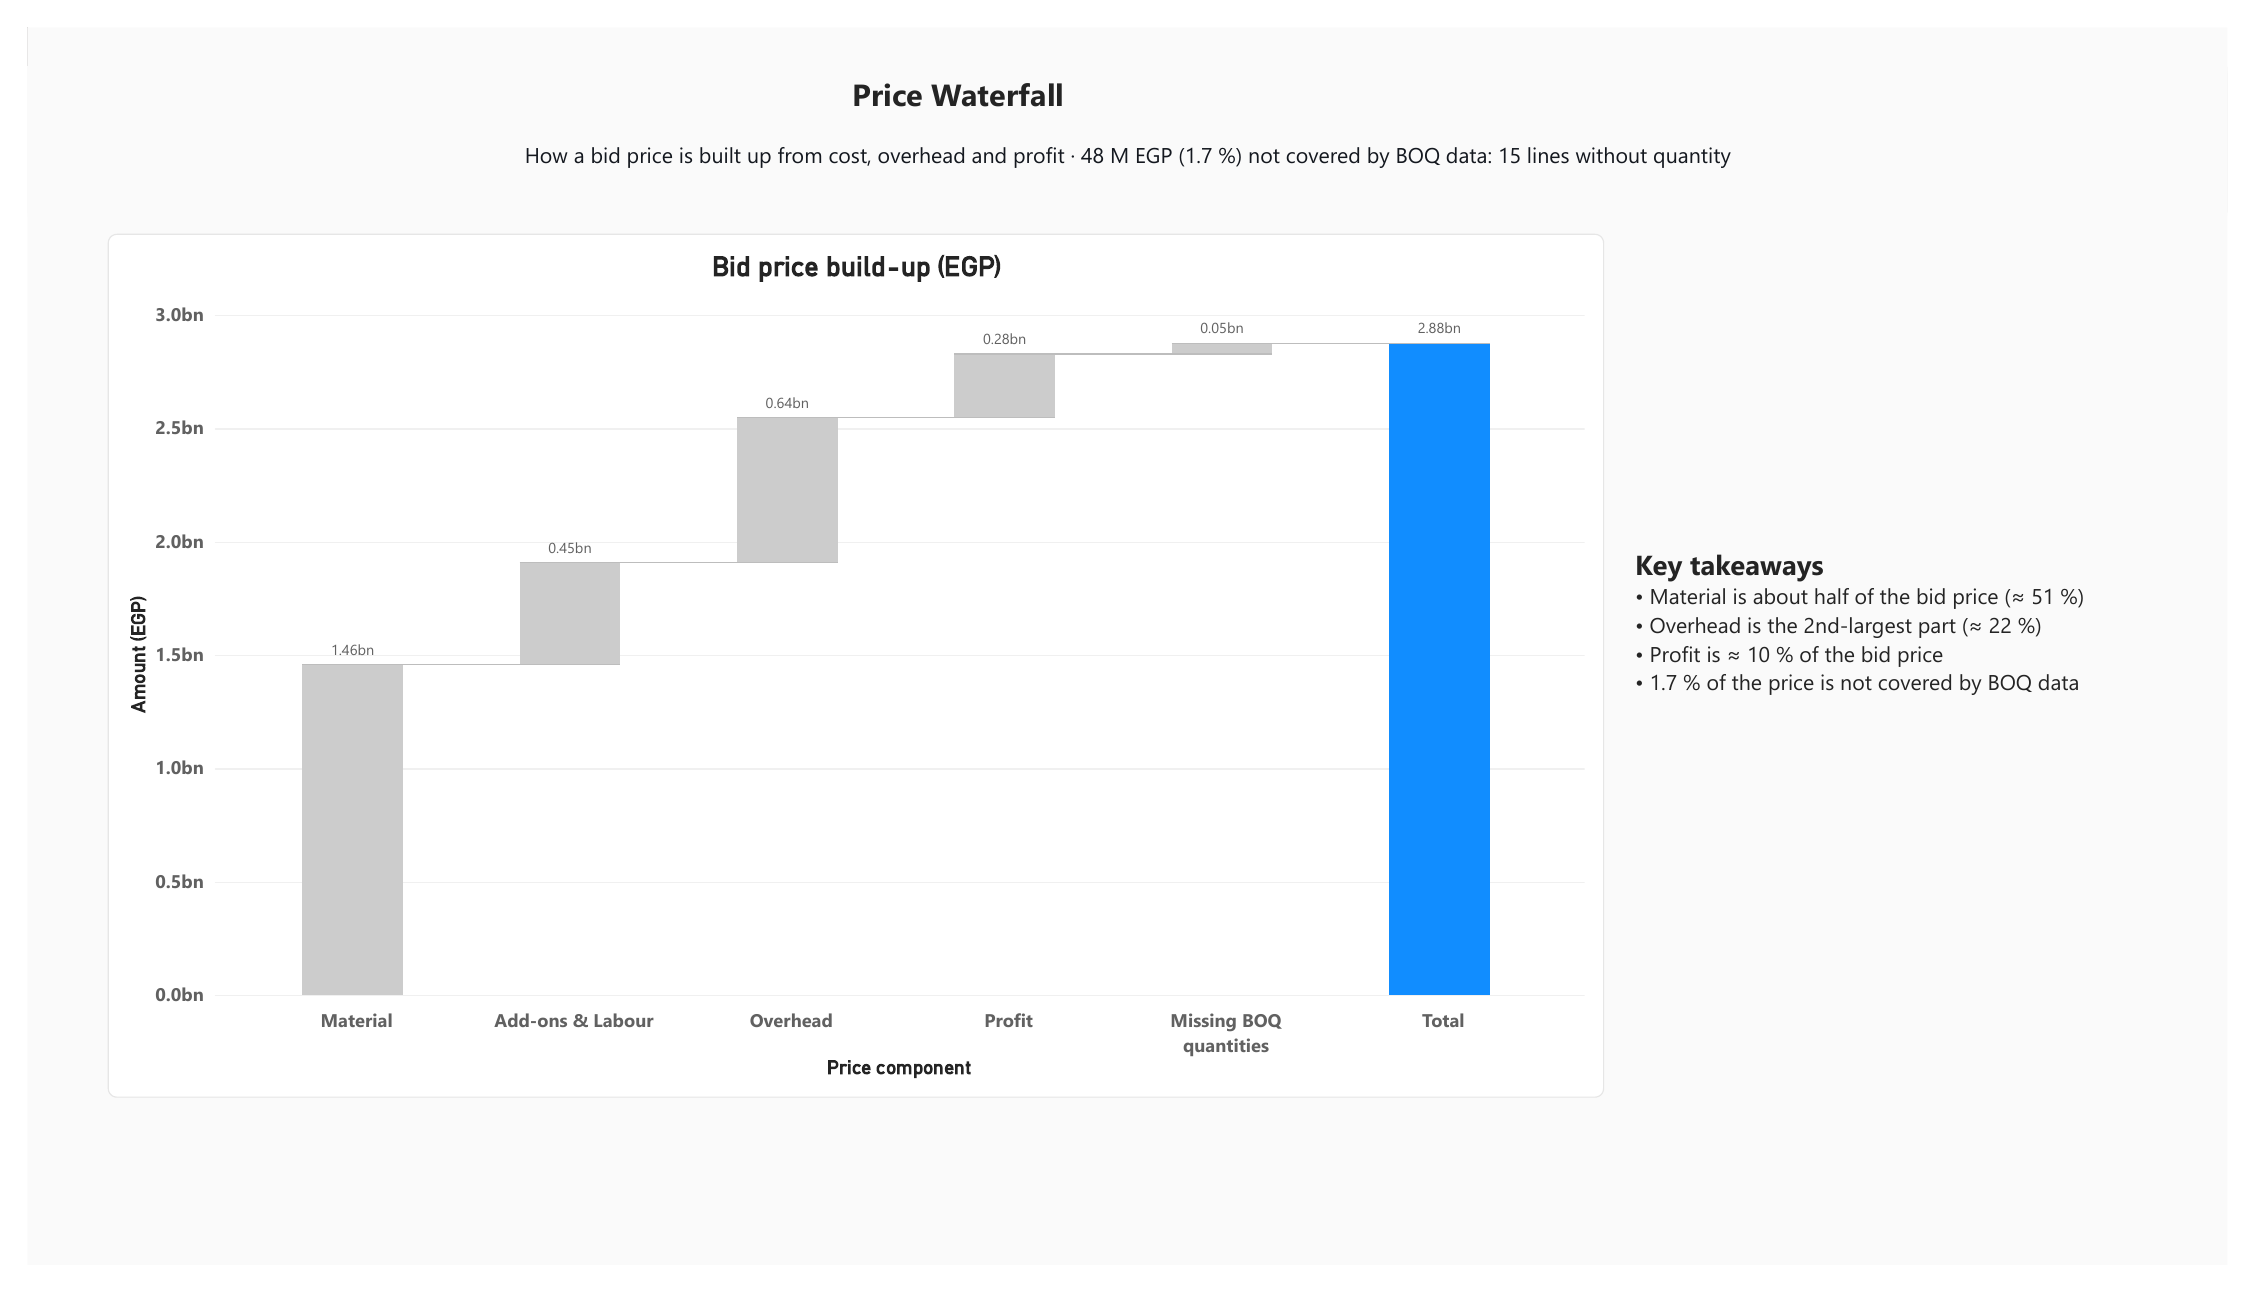

The dashboard page shown, as its layout file describes it:
{"tool":"powerbi","page":{"name":"Price Waterfall","canvas":[1920,1080],"ordinal":5},"visuals":[{"type":"textbox","box":[720,40,1200,56],"z":0},{"type":"textbox","box":[434,80,1130,82],"z":1000},{"type":"waterfallChart","title":"Bid price build-up (EGP)","fields":{"Category":["Waterfall Steps.Step"],"Y":["Waterfall Steps.Waterfall Value"]},"box":[70,180,1306,754],"z":2000},{"type":"textbox","box":[1403.3,451.7,458,178],"z":3000}]}

Visuals, with their boxes in screenshot pixels (x1, y1, x2, y2), scaled from the page's 1920x1080 canvas onto the 2255x1293 screenshot:
textbox: pyautogui.locateOnScreen(846, 48, 2254, 115)
textbox: pyautogui.locateOnScreen(510, 96, 1837, 194)
"Bid price build-up (EGP)" waterfallChart: pyautogui.locateOnScreen(82, 216, 1616, 1118)
textbox: pyautogui.locateOnScreen(1648, 541, 2186, 754)
